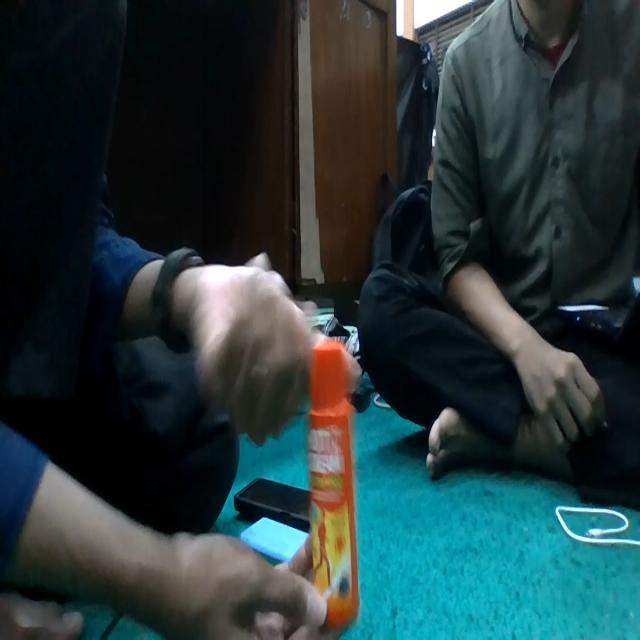Boncabe: (308, 338, 359, 632)
Powerbank: (240, 517, 308, 562)
